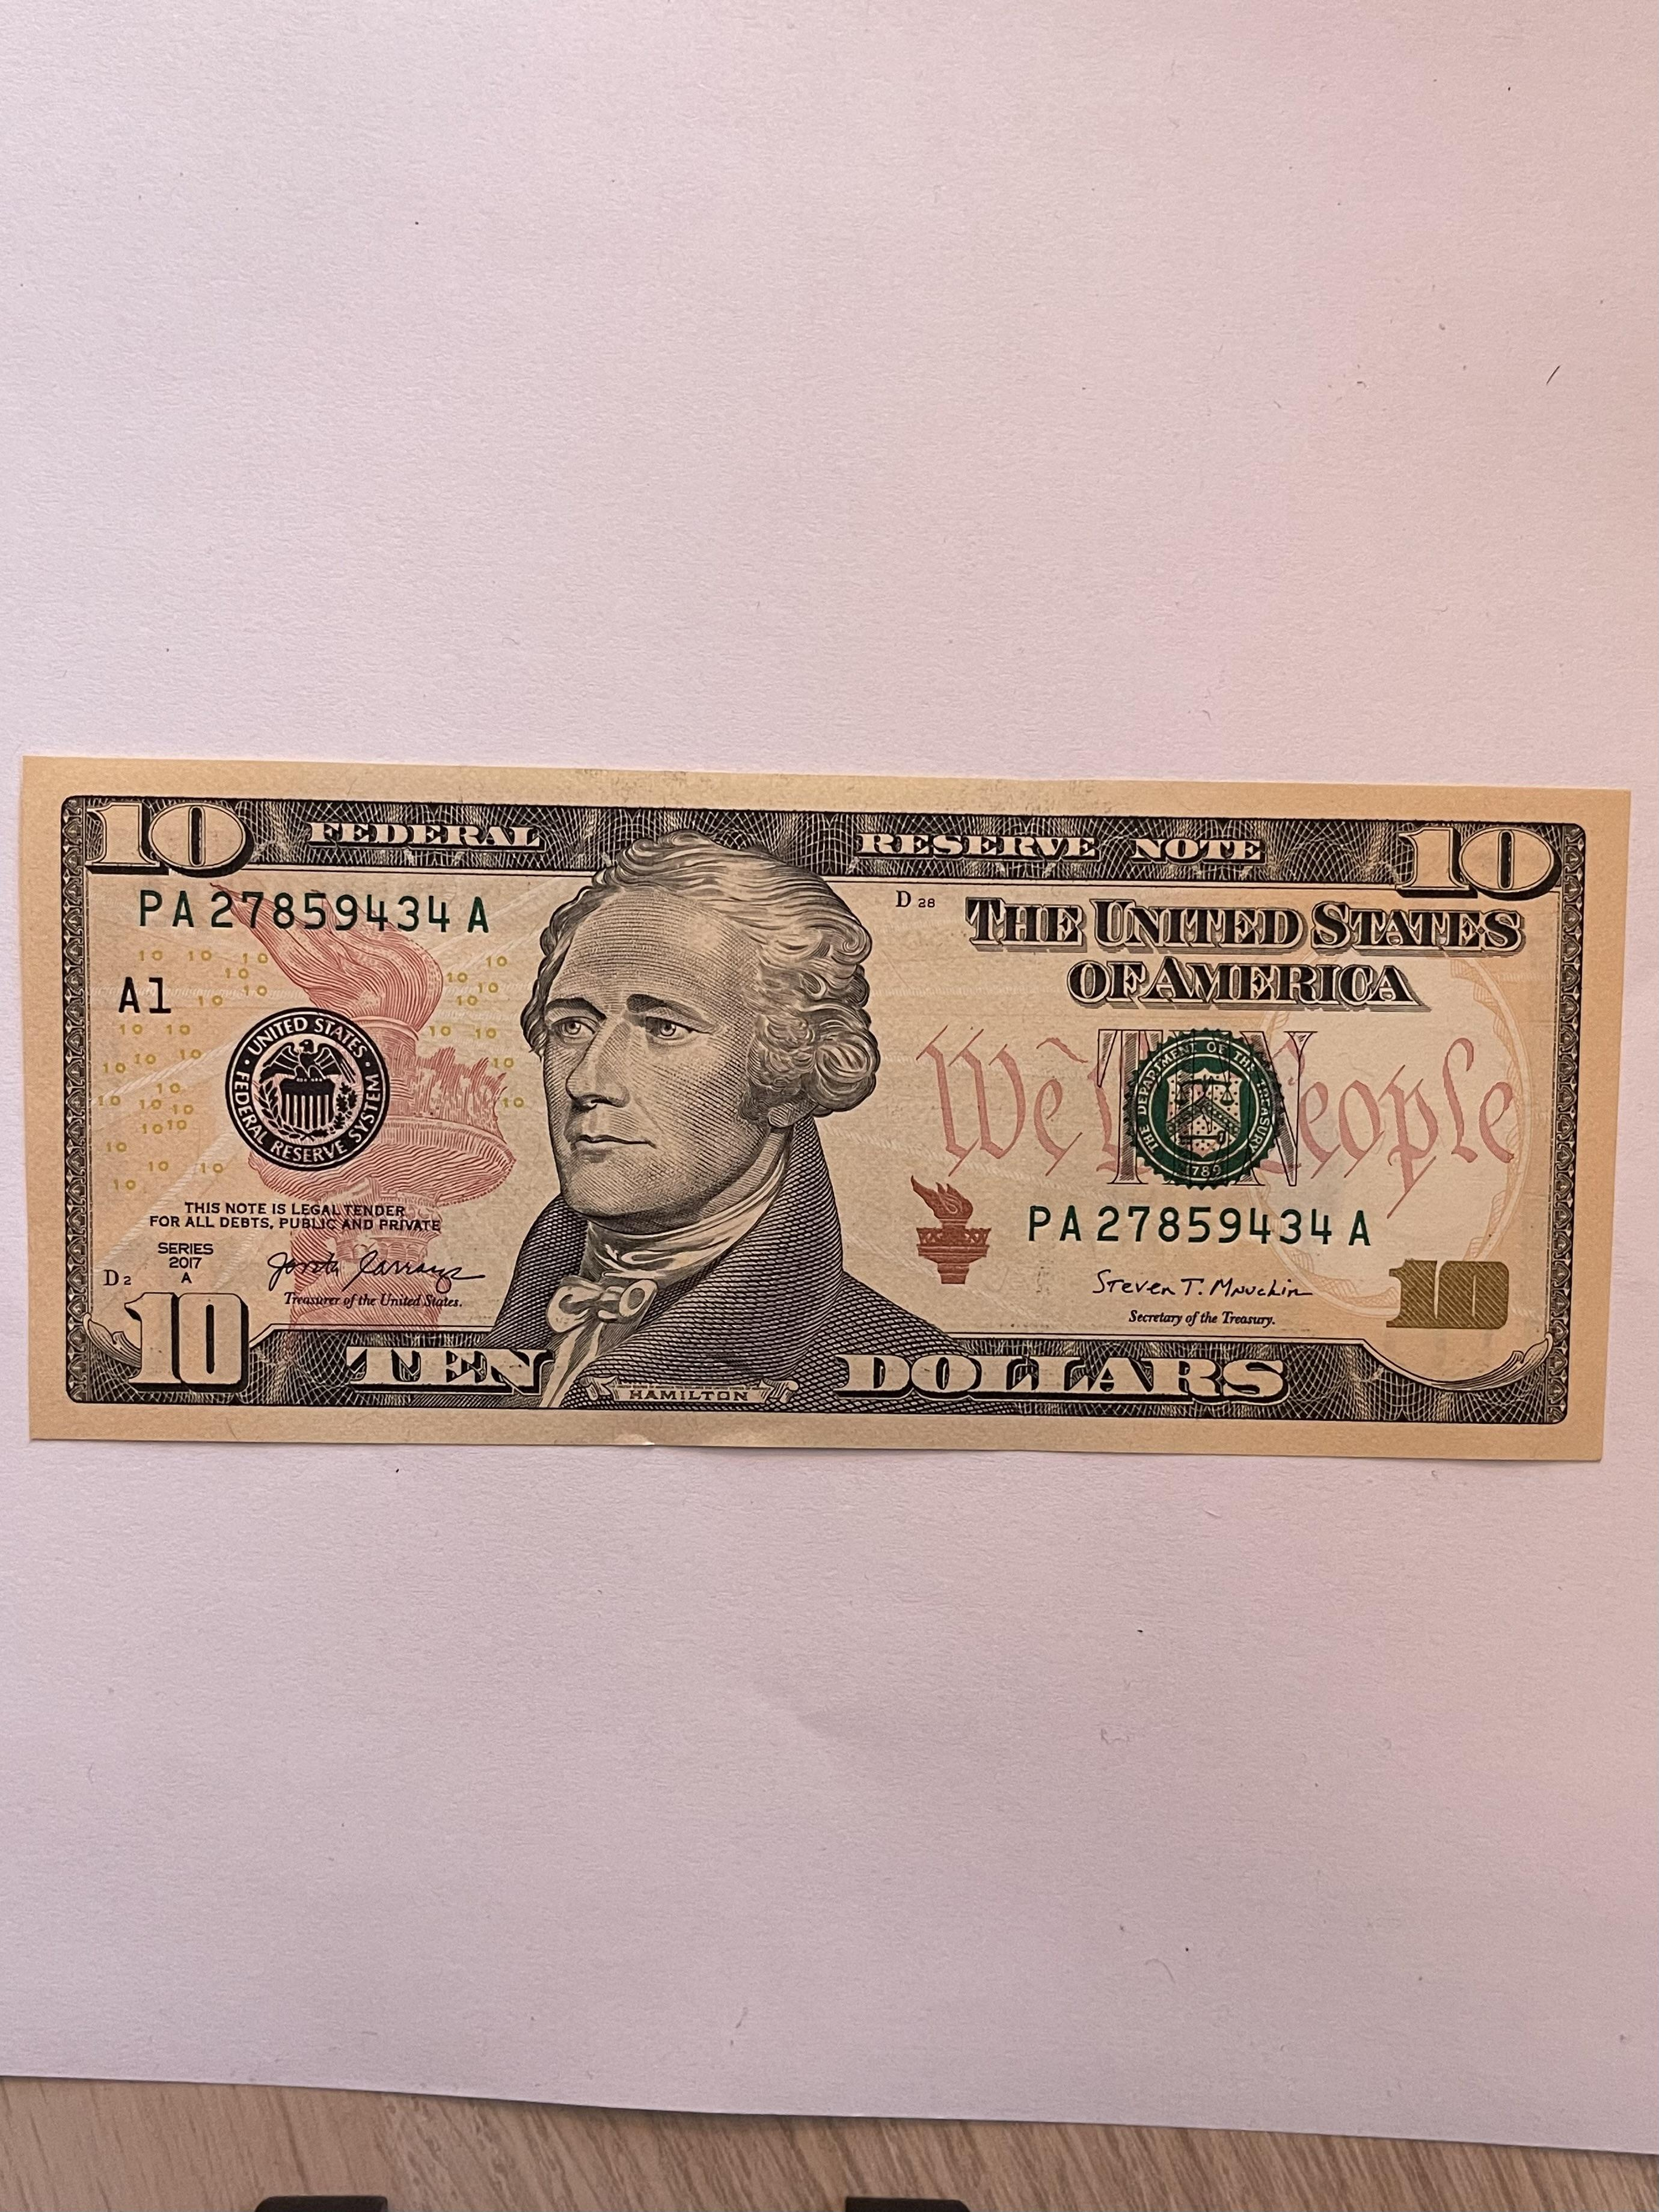TenBill: (17, 749, 1635, 1463)
